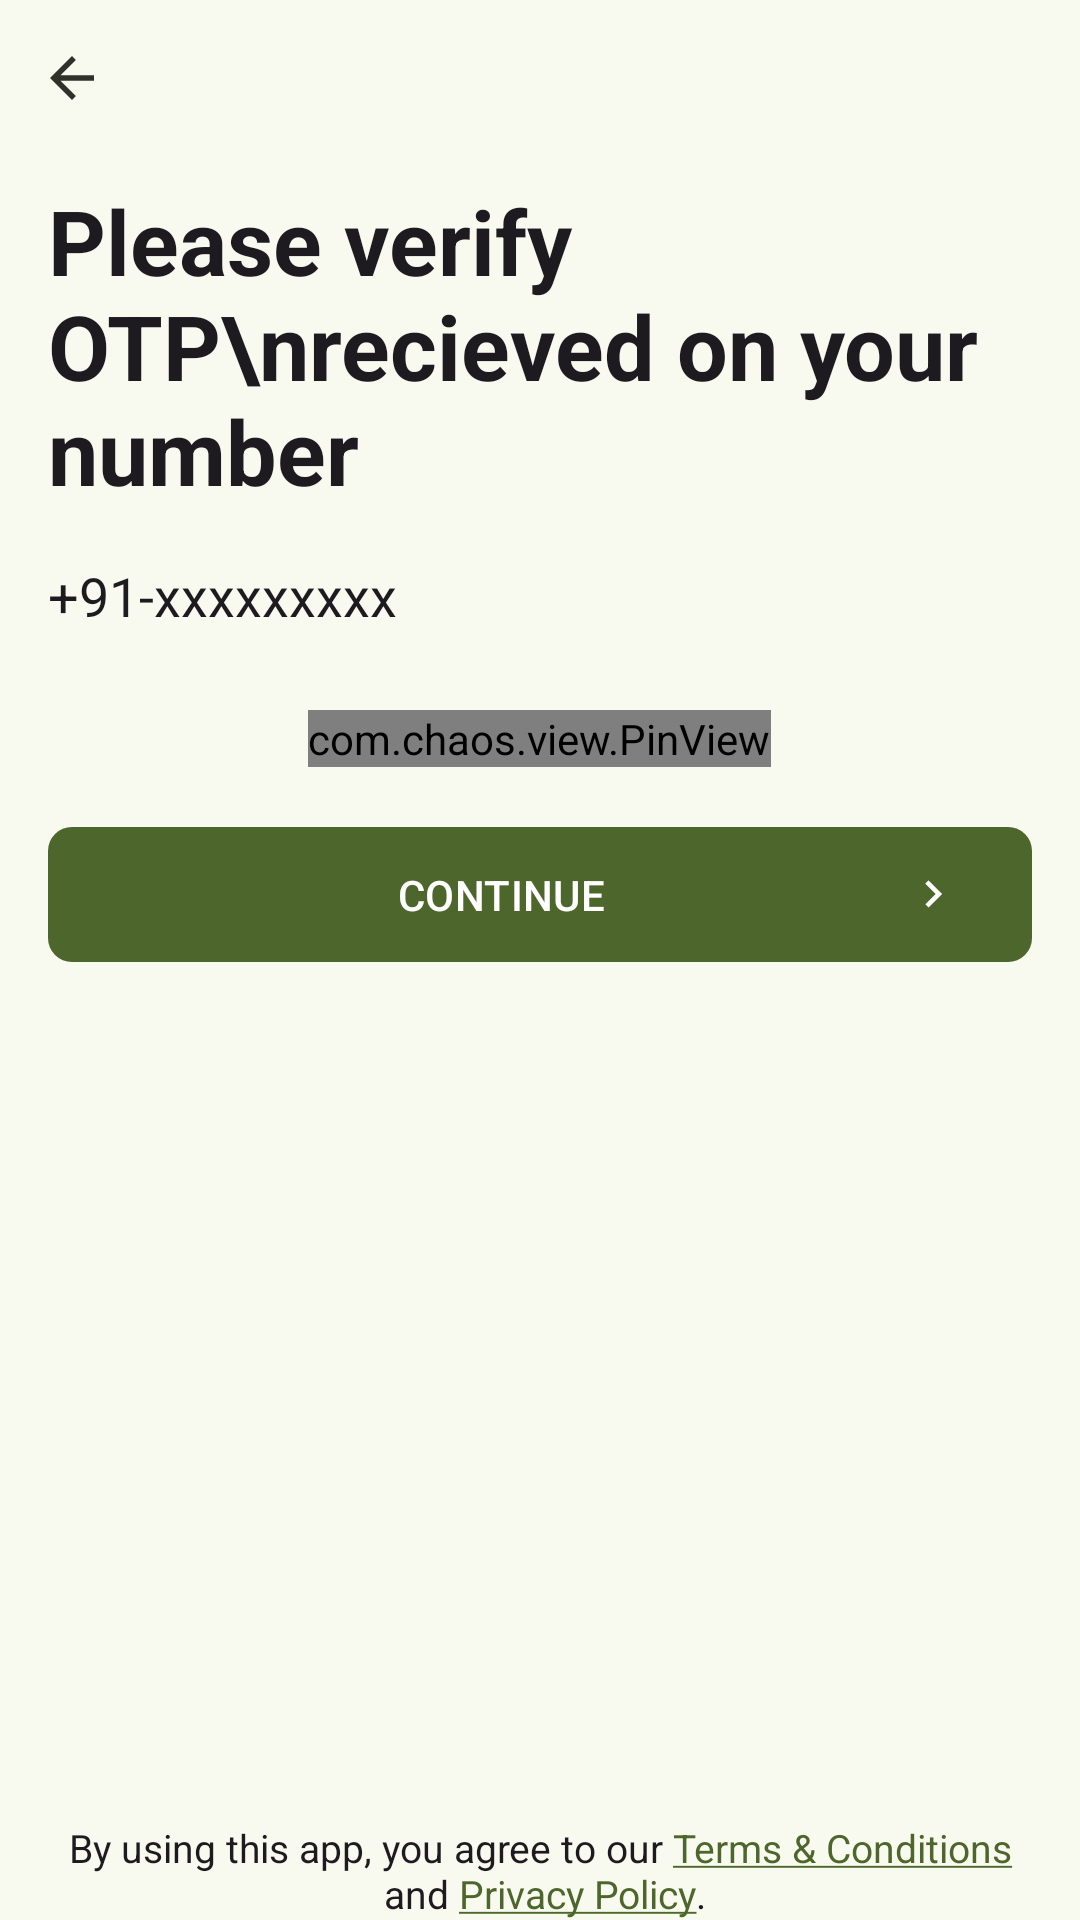

Icons on this 1080x1920 Android screen, each with the point to tap as point (x, y):
arrow back: point (72, 78)
